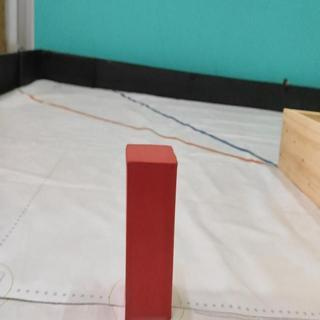redbox: (125, 143, 177, 320)
